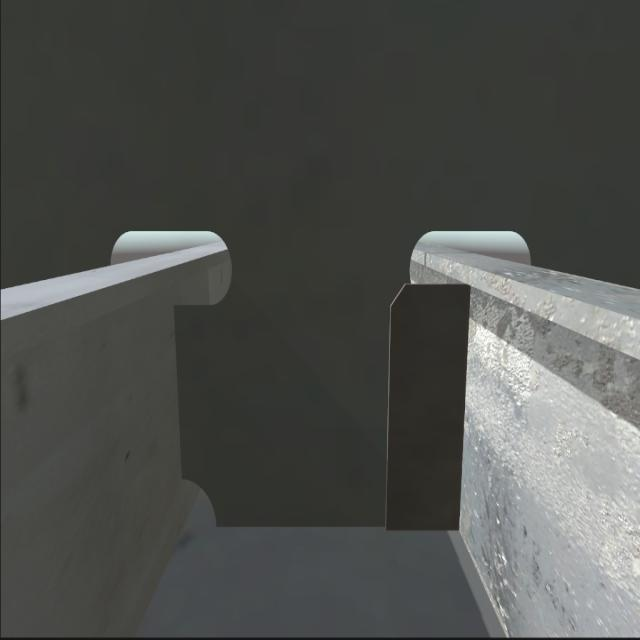fillet_hole: (182, 470, 217, 526)
fillet_yong_jeop_jang: (200, 520, 472, 539)
longi_yong_jeop_jang: (166, 286, 188, 484), (456, 277, 470, 534)
plate_CP03: (384, 279, 464, 530)
